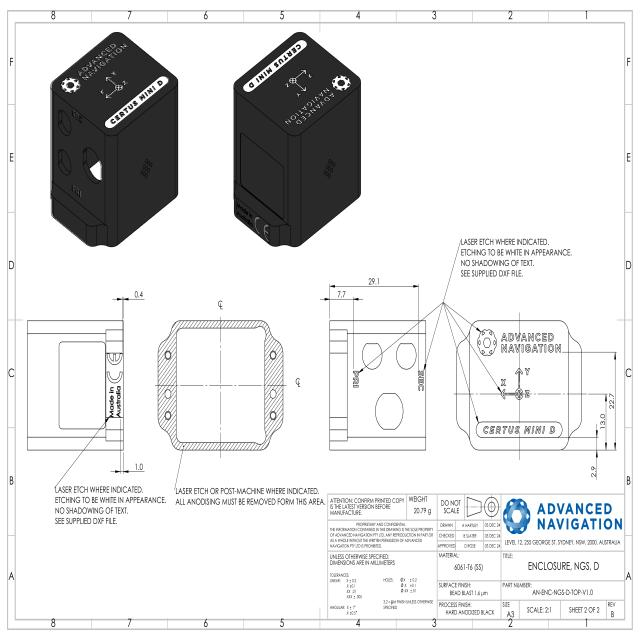dimension: (328, 276, 419, 290), (608, 348, 618, 452), (589, 422, 600, 482), (319, 289, 365, 302), (600, 392, 608, 454), (110, 290, 146, 303), (111, 462, 146, 475)
